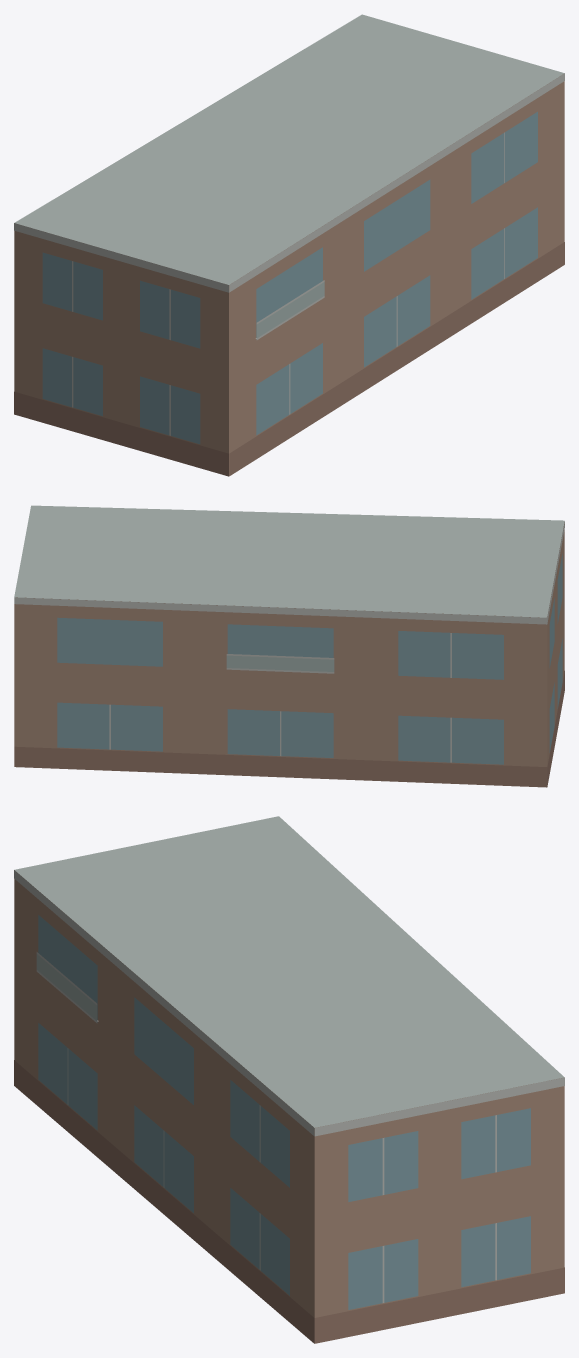
Rendered from survey-upis-32669653.glb.
3 views of the same model, one above another, from view 1: azimuth 30°, elevation 25°; view 2: azimuth 150°, elevation 25°; view 3: azimuth 270°, elevation 25° (orthographic). The views are drawn at different scales.
Visible parts, largest first — view 1: survey-upis-32669653.tmp; view 2: survey-upis-32669653.tmp; view 3: survey-upis-32669653.tmp.
Part boxes in pixels (x1,y1,x2,y2): survey-upis-32669653.tmp: (14,14,564,476); survey-upis-32669653.tmp: (14,505,564,787); survey-upis-32669653.tmp: (14,816,564,1343).
Bounding box in the file's own units: 18.9 × 6.1 × 14.11.
